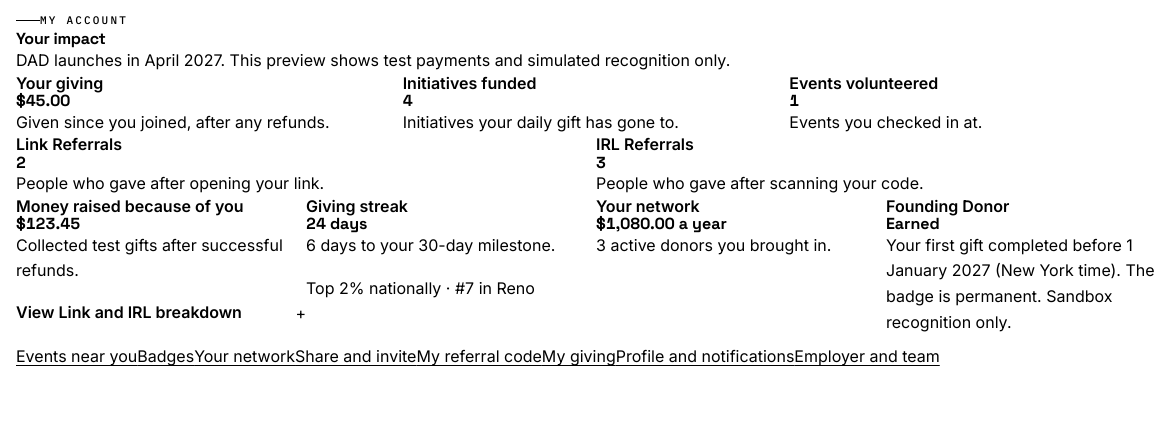
Test: shows the five elements with separate channels and collected-dollar breakdown
expect the heading "Link Referrals" is shown: met, box [16,134,122,154]
expect the text "2" is shown: met, box [16,152,26,172]
Click the heading "View Link and IRL breakdown": (129, 312) [16,302,242,322]
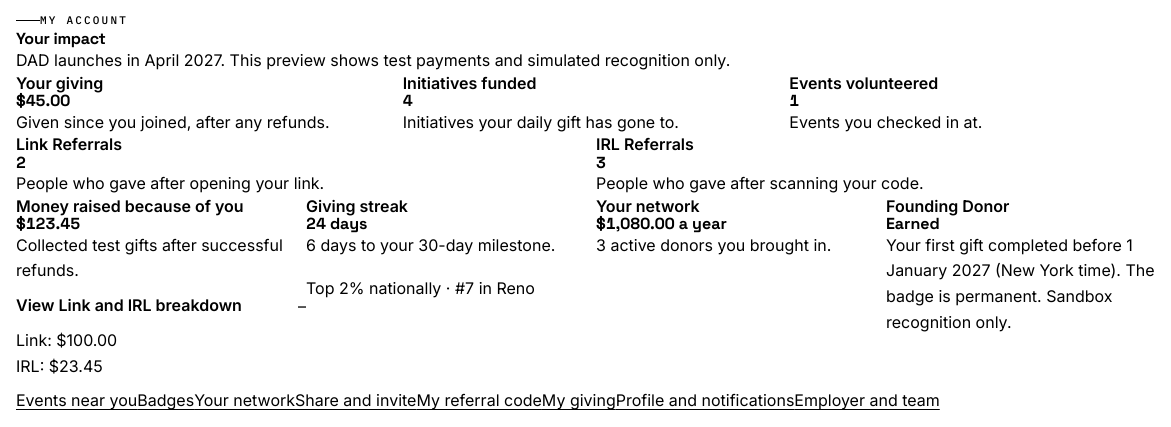
expect the text "Earned" is shown: met, box [886,213,940,234]
expect the text "Link: $100.00" is shown: met, box [16,330,117,350]
expect the text "IRL: $23.45" is shown: met, box [16,356,103,376]
